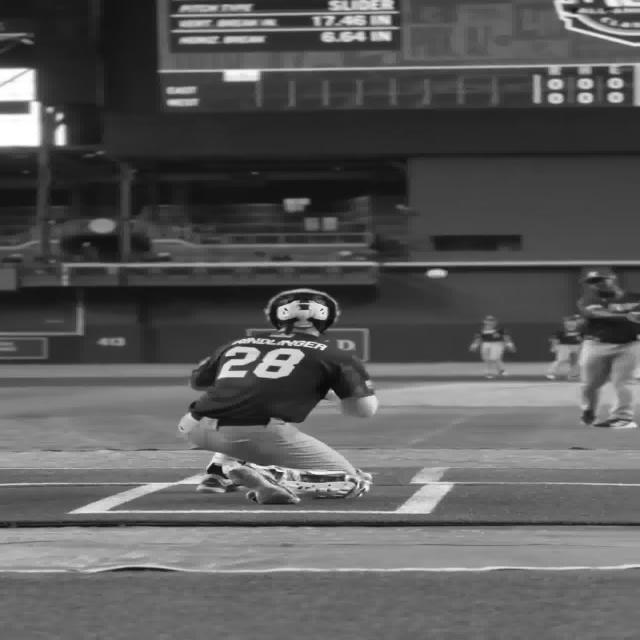baseball: (425, 268, 449, 279)
shoe: (229, 465, 300, 504), (198, 474, 233, 494), (593, 419, 638, 429), (580, 410, 596, 425)
